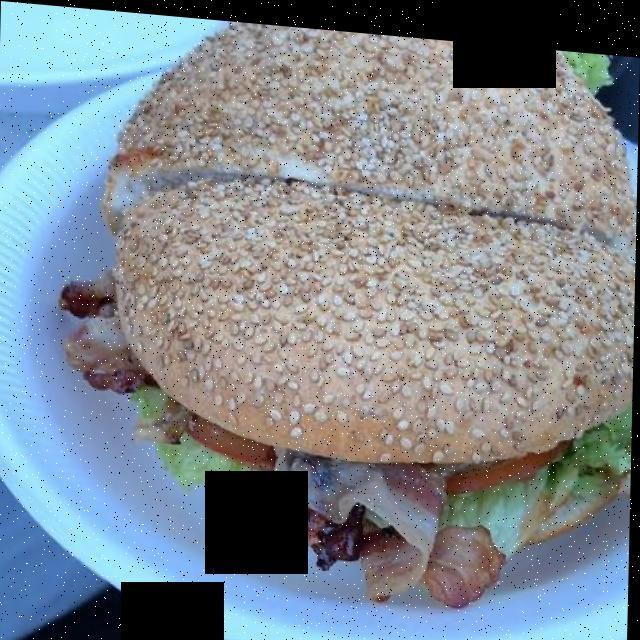hamburger: (76, 28, 624, 591)
